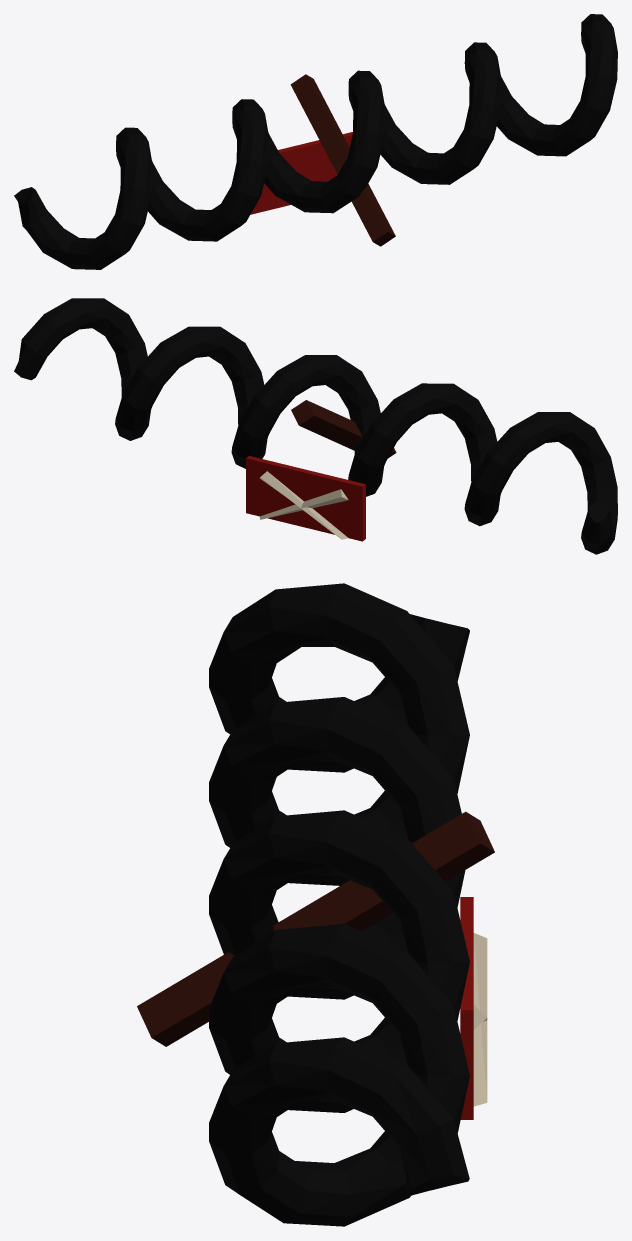
The model's file is GrassOutpostV2_Run_Wire_Sign.fbx.
3 views of the same model, one above another, from view 1: azimuth 30°, elevation 25°; view 2: azimuth 150°, elevation 25°; view 3: azimuth 270°, elevation 25° (orthographic). The views are drawn at different scales.
Parts seen in each view (by area): view 1: GrassOutpostV2_Run_Wire_Sign; view 2: GrassOutpostV2_Run_Wire_Sign; view 3: GrassOutpostV2_Run_Wire_Sign.
Part boxes in pixels (<box>): GrassOutpostV2_Run_Wire_Sign: <box>14,14,617,269</box>; GrassOutpostV2_Run_Wire_Sign: <box>14,298,617,554</box>; GrassOutpostV2_Run_Wire_Sign: <box>137,583,494,1226</box>.
Size of the model in its own units: 1 by 0.2272 by 0.2669.
